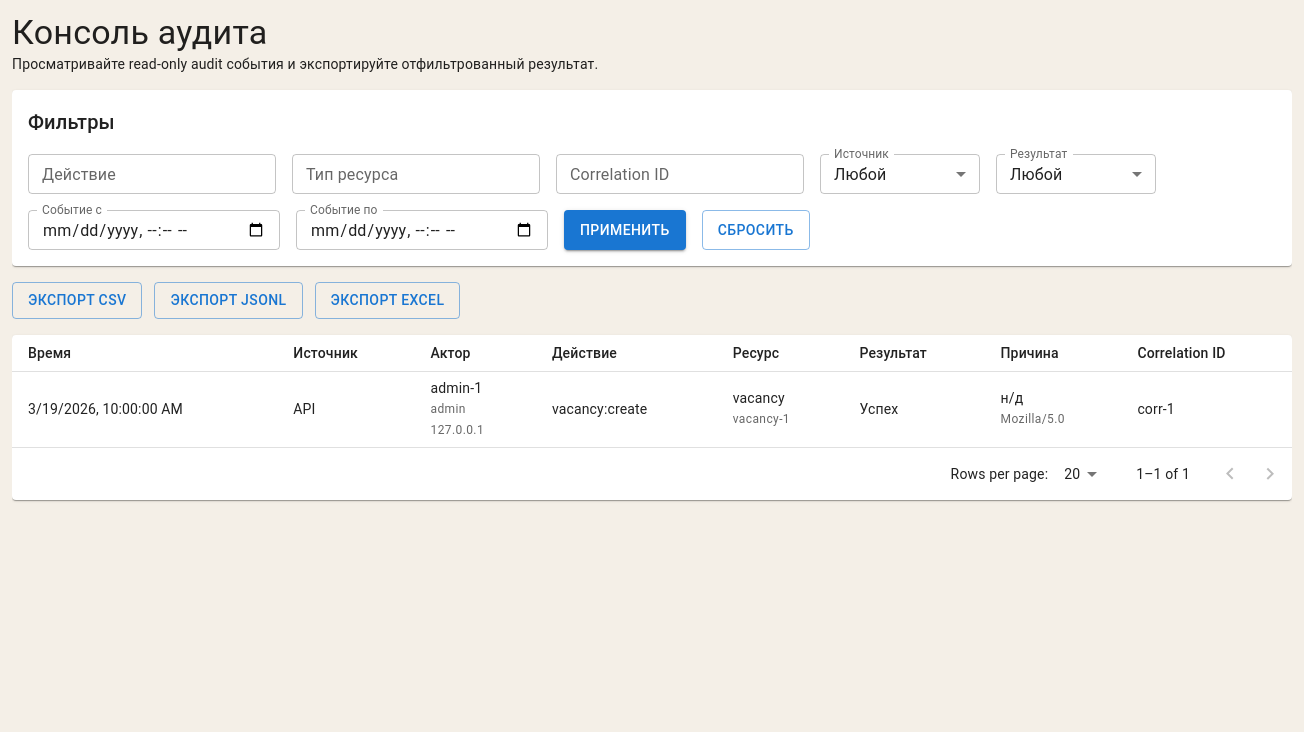
Test: AdminAuditPage › applies filters and exports xlsx
Expected: the text "vacancy:create" is shown, [536,371,717,448]
Type "vacancy:create" into the field labelled "Действие".
click(152, 174); type("vacancy:create")  # box [28,154,276,194]
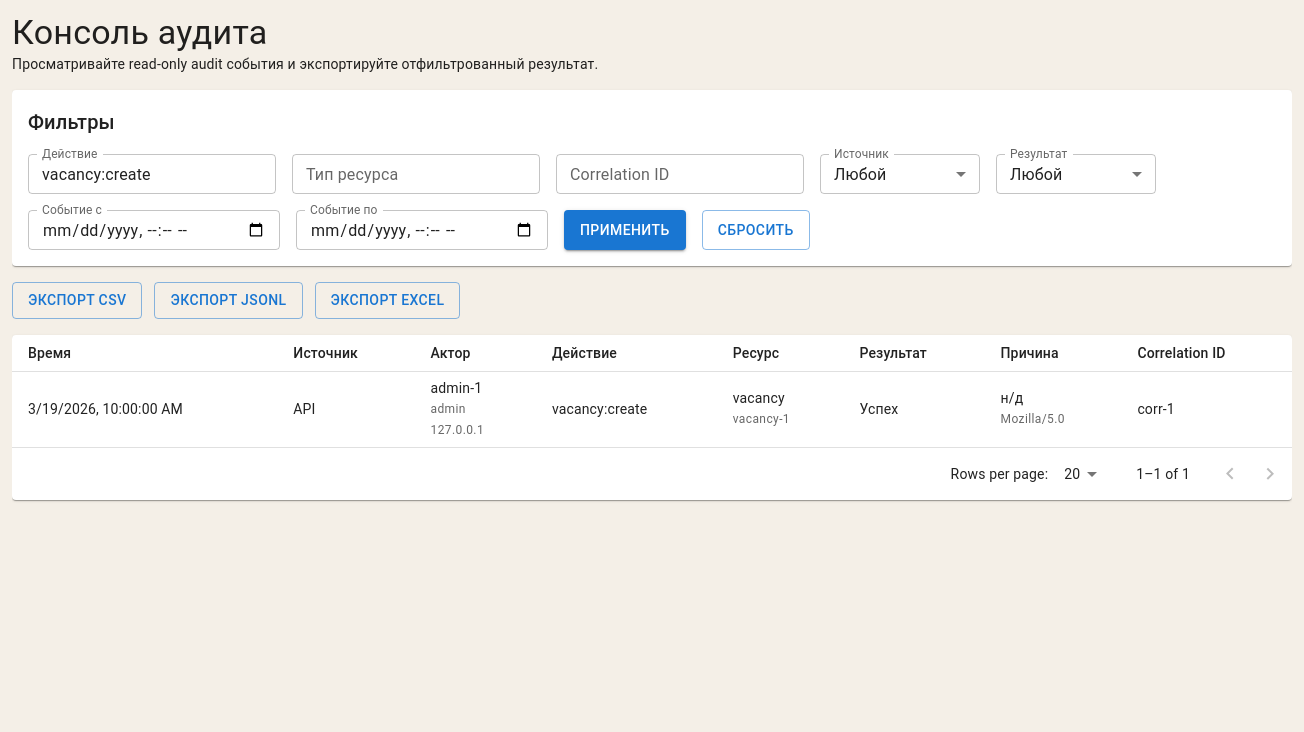
Click the button "Применить".
click(625, 230)  # box [564,210,686,250]
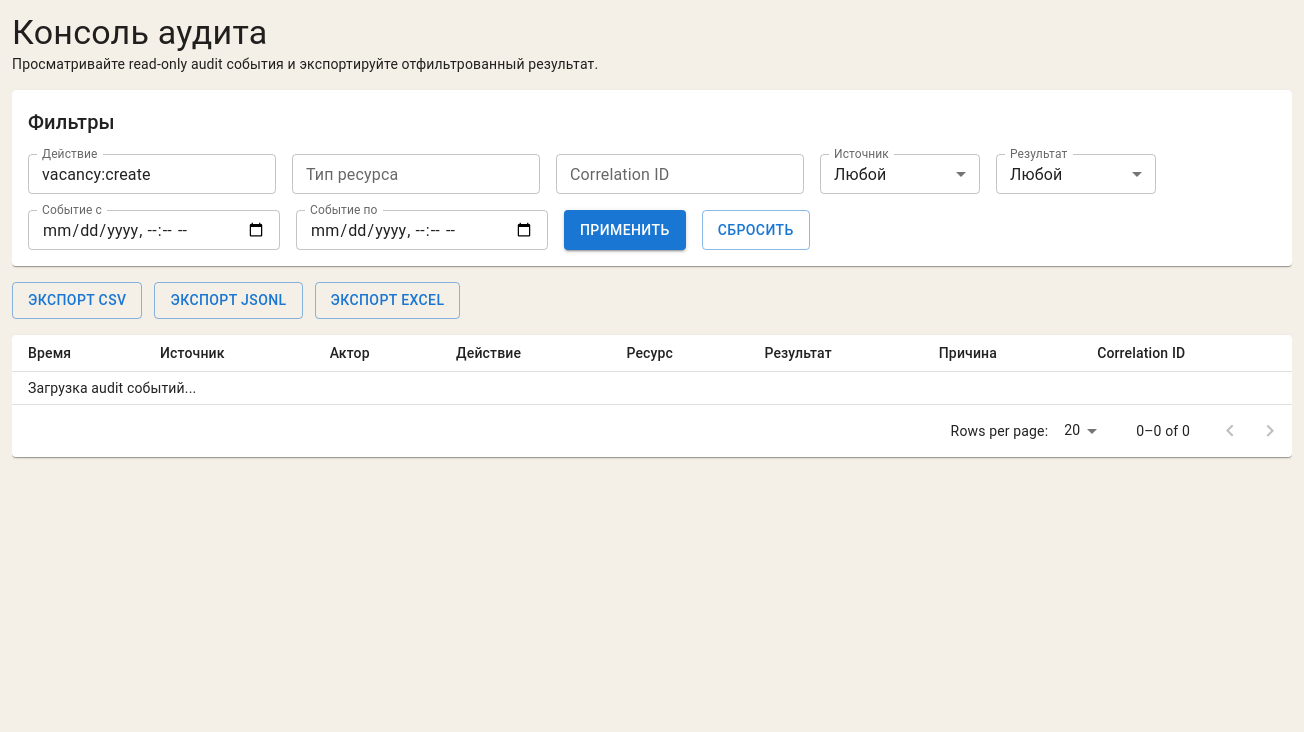
Click the button "Экспорт Excel".
click(387, 300)  # box [314,282,460,318]
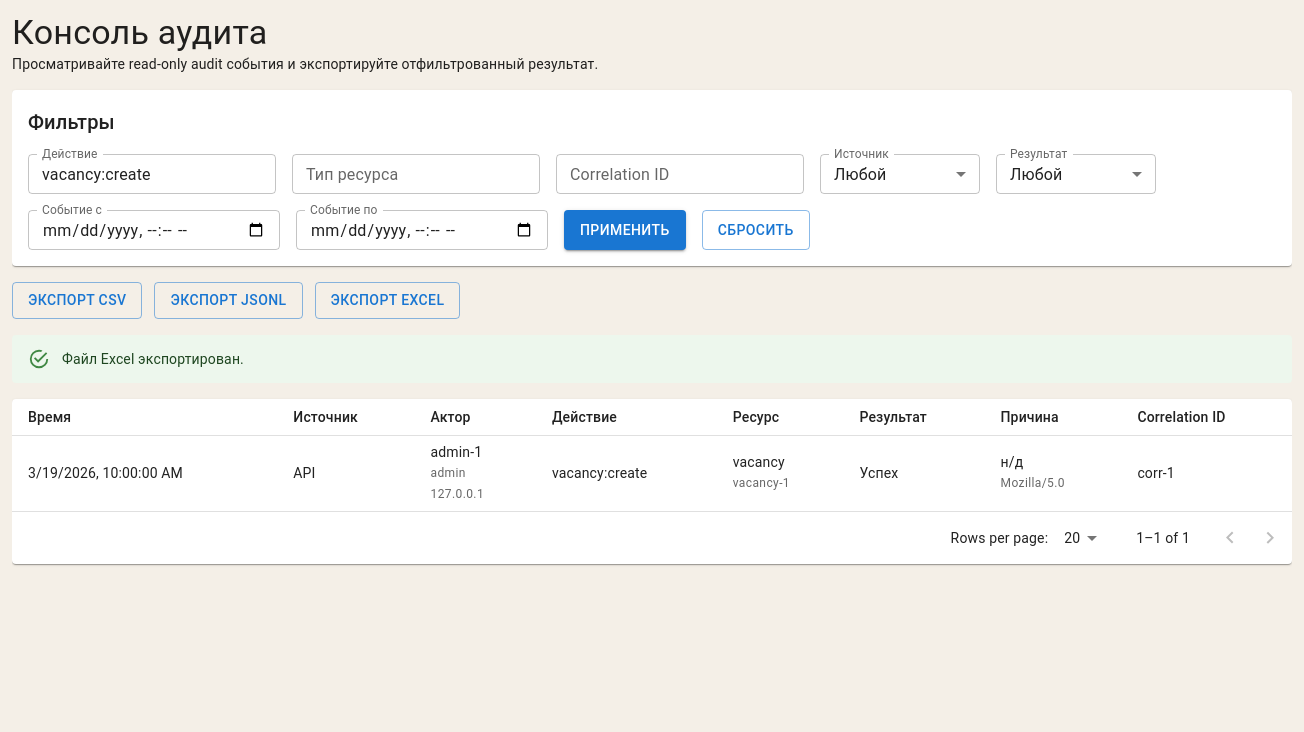
Expected: the text "Файл Excel экспортирован." is shown, [62,350,244,366]
